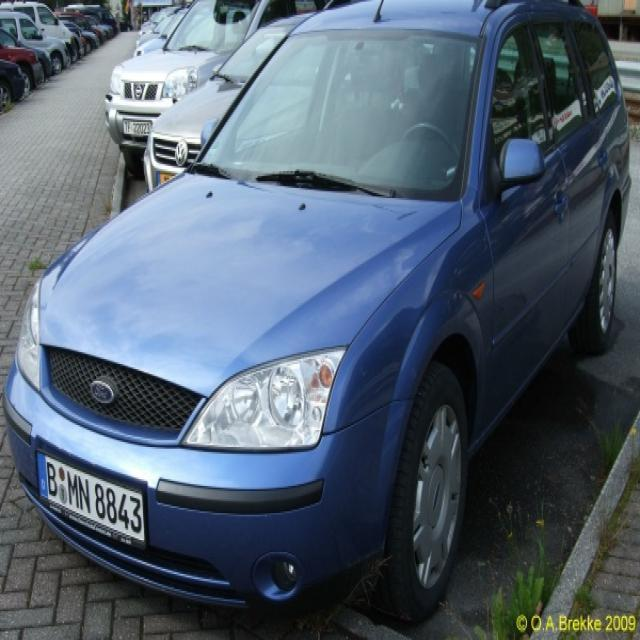License_Plate: (38, 449, 145, 546)
